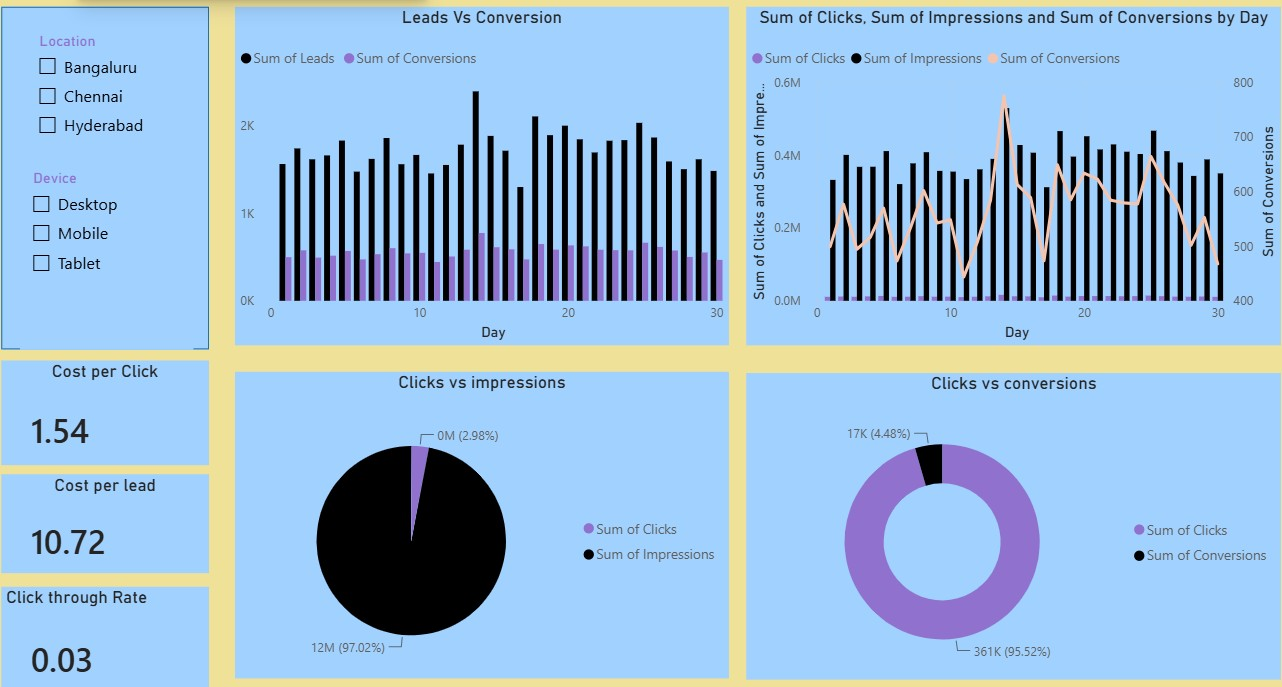

Layout of this report page (visuals, bound fields, positions):
{"tool":"powerbi","page":{"name":"Ads performance","canvas":[1280,720],"ordinal":1},"visuals":[{"type":"shape","box":[0,5.4,1280.3,714.9],"z":0},{"type":"shape","box":[16.2,28.3,203.3,335.2],"z":1000},{"type":"slicer","fields":{"Values":["Sheet1.Location "]},"box":[40.4,47.1,154.8,150.8],"z":3000},{"type":"slicer","fields":{"Values":["Sheet1.Device"]},"box":[33.7,181.7,169.6,181.7],"z":4000},{"type":"cardVisual","title":"Cost per Click","fields":{"Data":["Measure Table.costperclick"]},"box":[16.2,374.3,203.3,102.3],"z":5000},{"type":"cardVisual","title":"Cost per lead","fields":{"Data":["Measure Table.costperlead"]},"box":[16.2,486,203.3,96.9],"z":6000},{"type":"cardVisual","title":"Click through Rate","fields":{"Data":["Measure Table.clickthroughrate"]},"box":[16.2,595,203.3,109],"z":7000},{"type":"clusteredColumnChart","title":"Leads Vs Conversion","fields":{"Y":["Sum(Sheet1.Leads )","Sum(Sheet1.Conversions)"],"Category":["Sheet1.Ad_Date.Variation.Date Hierarchy.Day"]},"box":[245,28.3,483.3,331.2],"z":8000},{"type":"pieChart","title":"Clicks vs impressions","fields":{"Y":["Sum(Sheet1.Clicks)","Sum(Sheet1.Impressions)"]},"box":[245,385,483.3,300.2],"z":9000},{"type":"donutChart","title":"Clicks vs conversions","fields":{"Y":["Sum(Sheet1.Clicks)","Sum(Sheet1.Conversions)"]},"box":[744.5,386.4,523.7,300.2],"z":10000},{"type":"lineClusteredColumnComboChart","fields":{"Y":["Sum(Sheet1.Clicks)","Sum(Sheet1.Impressions)"],"Category":["Sheet1.Ad_Date.Variation.Date Hierarchy.Day"],"Y2":["Sum(Sheet1.Conversions)"]},"box":[744.5,28.3,523.7,331.2],"z":11000}]}

Visuals, with their boxes on the page's 1280x720 design canvas (x1, y1, x2, y2). These are canvas units, not pixel positions in the 1282x687 screenshot, which may show the page scaled, cropped or inside an application window:
shape: bbox=[0, 5, 1280, 720]
shape: bbox=[16, 28, 220, 364]
slicer - Sheet1.Location : bbox=[40, 47, 195, 198]
slicer - Sheet1.Device: bbox=[34, 182, 203, 363]
"Cost per Click" cardVisual: bbox=[16, 374, 220, 477]
"Cost per lead" cardVisual: bbox=[16, 486, 220, 583]
"Click through Rate" cardVisual: bbox=[16, 595, 220, 704]
"Leads Vs Conversion" clusteredColumnChart: bbox=[245, 28, 728, 360]
"Clicks vs impressions" pieChart: bbox=[245, 385, 728, 685]
"Clicks vs conversions" donutChart: bbox=[744, 386, 1268, 687]
lineClusteredColumnComboChart - Sum(Sheet1.Clicks) x Sum(Sheet1.Impressions): bbox=[744, 28, 1268, 360]
